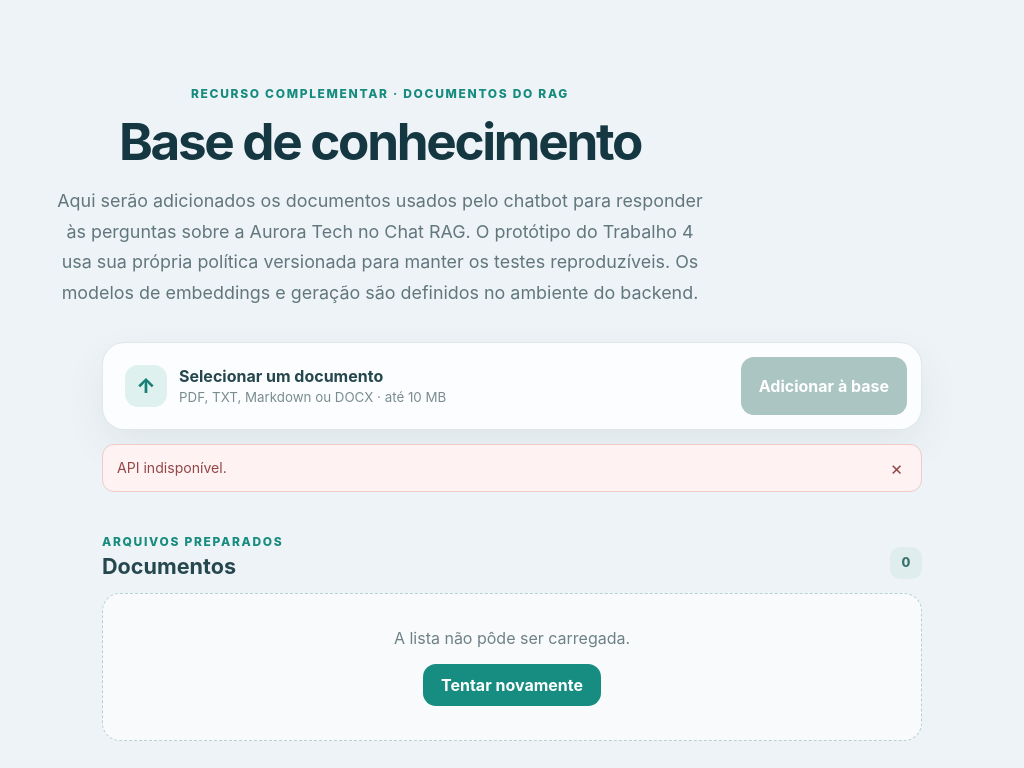
Test case: KnowledgeBasePage integrada › permite tentar novamente quando a listagem falha
Expected: the text "A lista não pôde ser carregada." is shown, [394,628,630,648]
Click the button "Tentar novamente": [512, 685] box [423,664,601,706]
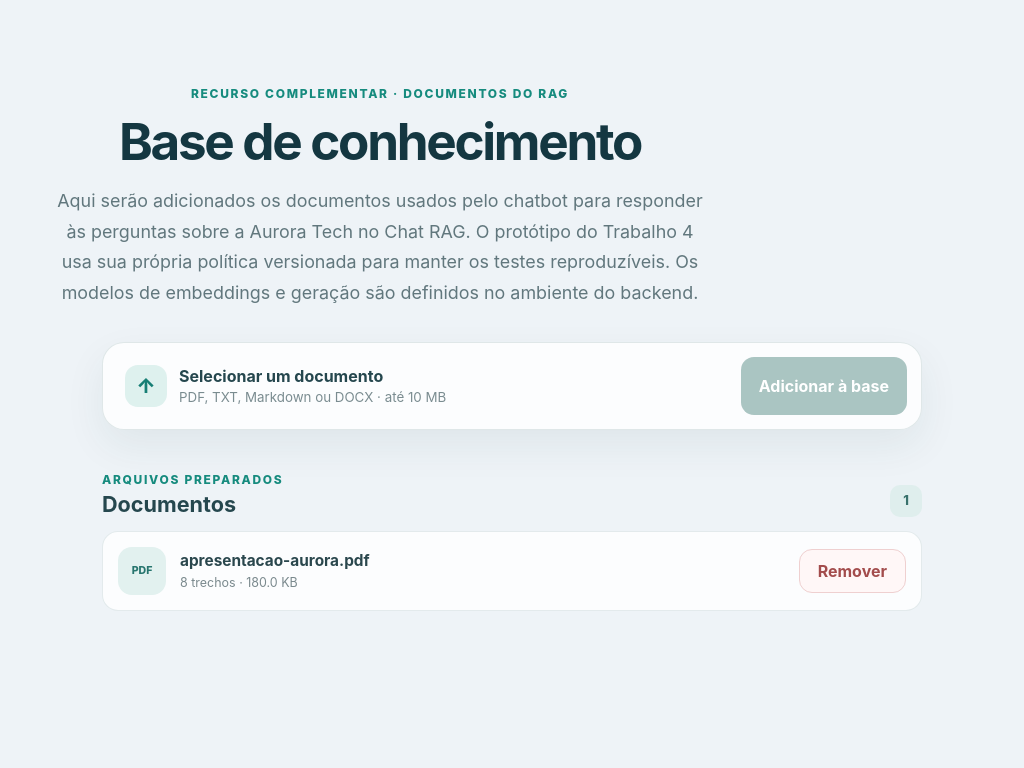
Expected: the heading "apresentacao-aurora.pdf" is shown, [180,552,370,570]
